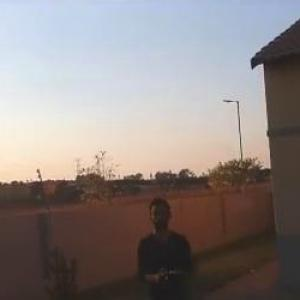follow: (132, 190, 203, 298)
